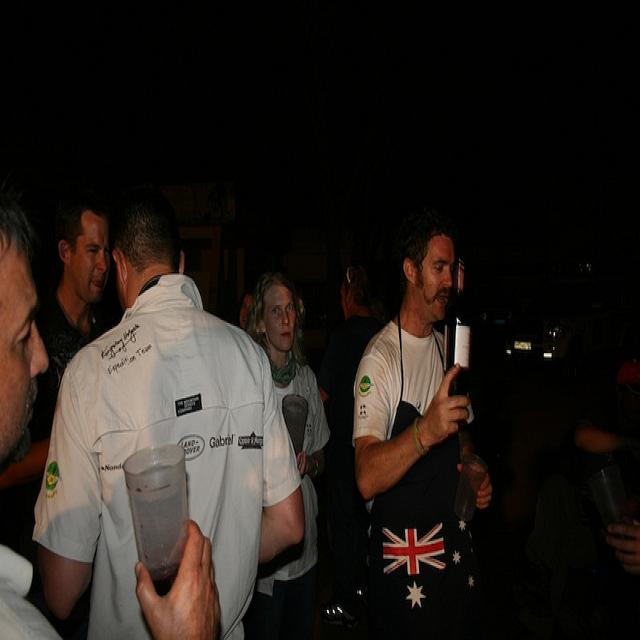Vehicle: (500, 282, 594, 395)
